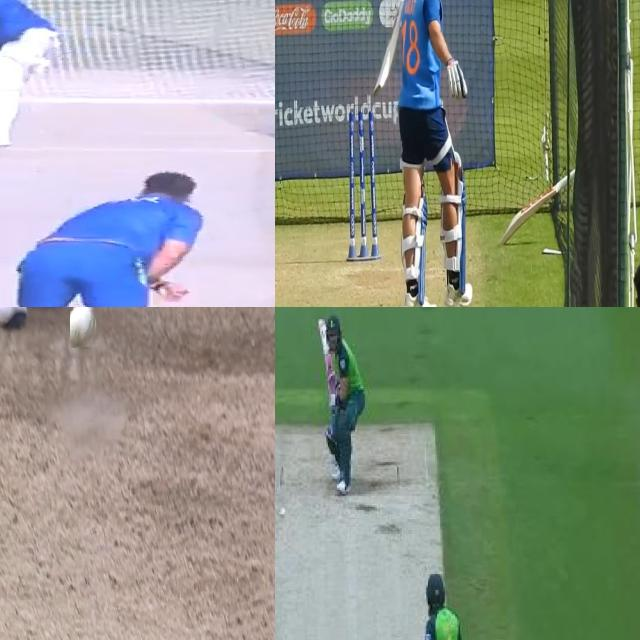Cricket ball: (70, 307, 98, 347), (278, 507, 288, 519)
Stumps: (346, 109, 380, 263)
